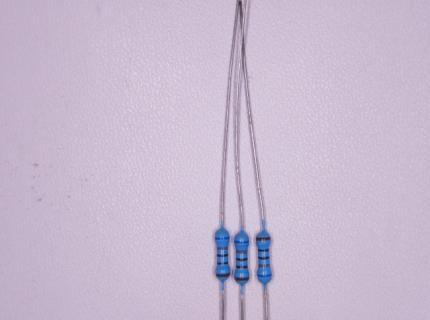Black band: (236, 257, 248, 261), (258, 248, 269, 252), (258, 256, 269, 260), (236, 265, 247, 269), (217, 254, 229, 257), (217, 262, 229, 265)
Blue band: (257, 273, 272, 278), (215, 236, 230, 240), (235, 240, 249, 244)
Brown band: (255, 236, 271, 241), (234, 277, 249, 281), (216, 273, 230, 277)
Grey band: (259, 263, 271, 268), (217, 246, 228, 251), (236, 250, 247, 254)
